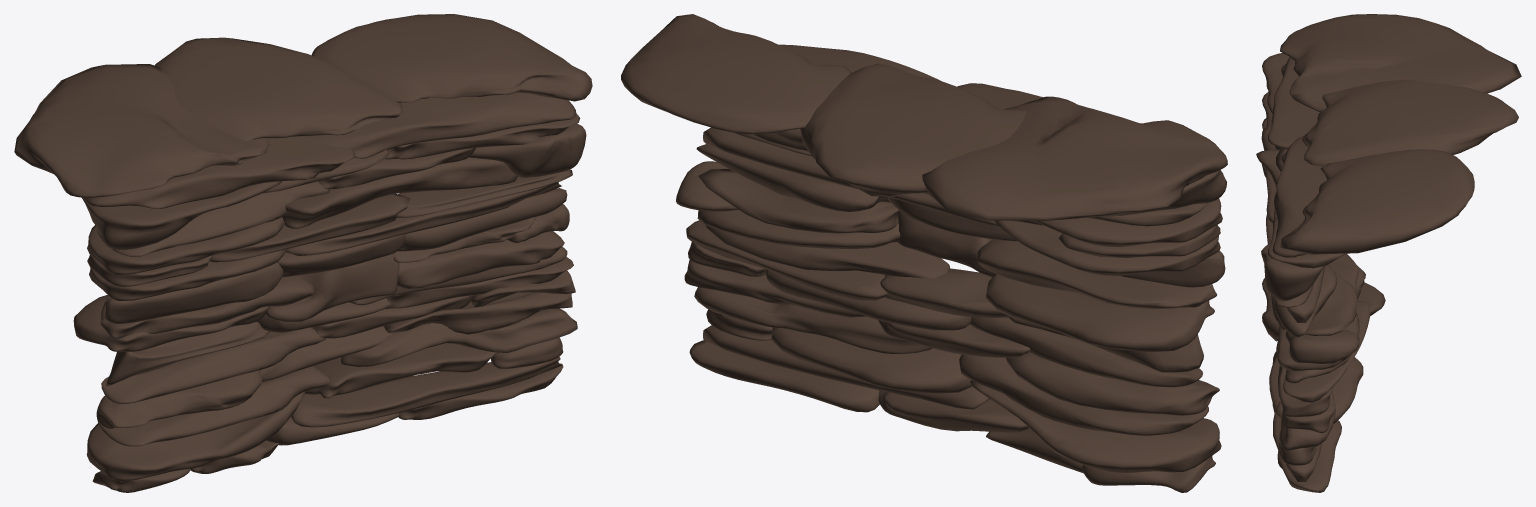
File: wall01.fbx
The picture shows the model from 3 angles, left to right: view 1: azimuth 30°, elevation 25°; view 2: azimuth 150°, elevation 25°; view 3: azimuth 270°, elevation 25°; orthographic projection. The views are drawn at different scales.
Visible parts, largest first — view 1: stal.124, stal.122, stal.123, stal.121, stal.120, stal.151, stal.152, stal.140, stal.113, stal.144, stal.146, stal.115 (+35 smaller); view 2: stal.124, stal.122, stal.123, stal.131, stal.152, stal.132, stal.147, stal.149, stal.146, stal.134, stal.144, stal.137 (+28 smaller); view 3: stal.123, stal.124, stal.122, stal.121, stal.120, stal.135, stal.134, stal.116, stal.142, stal.154, stal.147, stal.129 (+16 smaller).
Boxes of the visible parts, <box> form: stal.124: <box>14,64,269,197</box>; stal.122: <box>155,37,402,140</box>; stal.123: <box>311,14,592,102</box>; stal.121: <box>308,92,576,158</box>; stal.120: <box>83,136,354,208</box>; stal.151: <box>291,356,561,427</box>; stal.152: <box>86,391,305,480</box>; stal.140: <box>101,327,325,403</box>; stal.113: <box>282,157,517,228</box>; stal.144: <box>341,308,577,366</box>; stal.146: <box>97,366,330,446</box>; stal.115: <box>82,181,281,250</box>; stal.124: <box>922,96,1227,220</box>; stal.122: <box>800,63,1026,196</box>; stal.123: <box>621,14,851,134</box>; stal.131: <box>986,274,1214,352</box>; stal.152: <box>970,380,1221,472</box>; stal.132: <box>977,239,1216,308</box>; stal.147: <box>771,327,972,393</box>; stal.149: <box>1006,352,1219,415</box>; stal.146: <box>959,354,1208,435</box>; stal.134: <box>698,169,899,233</box>; stal.144: <box>694,287,932,354</box>; stal.137: <box>705,225,949,278</box>; stal.123: <box>1280,149,1474,254</box>; stal.124: <box>1280,14,1521,111</box>; stal.122: <box>1302,80,1518,166</box>; stal.121: <box>1272,136,1326,257</box>; stal.120: <box>1268,57,1319,149</box>; stal.135: <box>1285,329,1359,363</box>; stal.134: <box>1281,273,1357,335</box>; stal.116: <box>1261,243,1324,300</box>; stal.142: <box>1283,300,1370,402</box>; stal.154: <box>1277,420,1341,492</box>; stal.147: <box>1275,337,1363,423</box>; stal.129: <box>1273,264,1337,337</box>.
Size of the model in its own units: 6.73 by 4.1 by 3.43.
